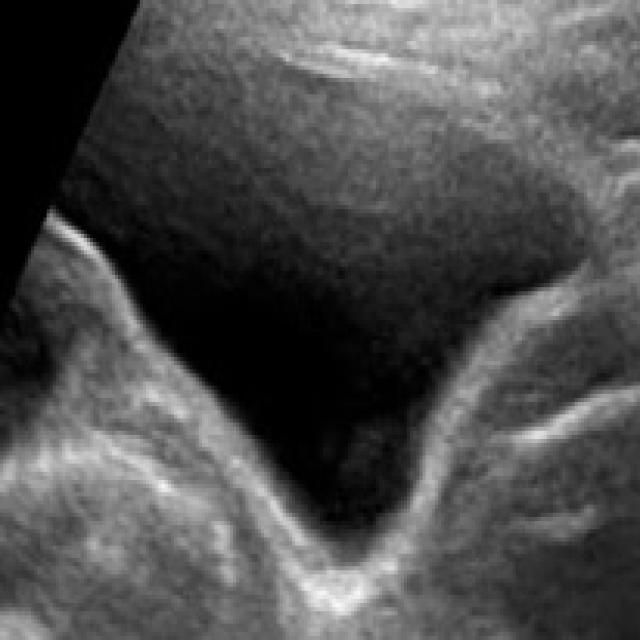bladder: (41, 0, 610, 610)
